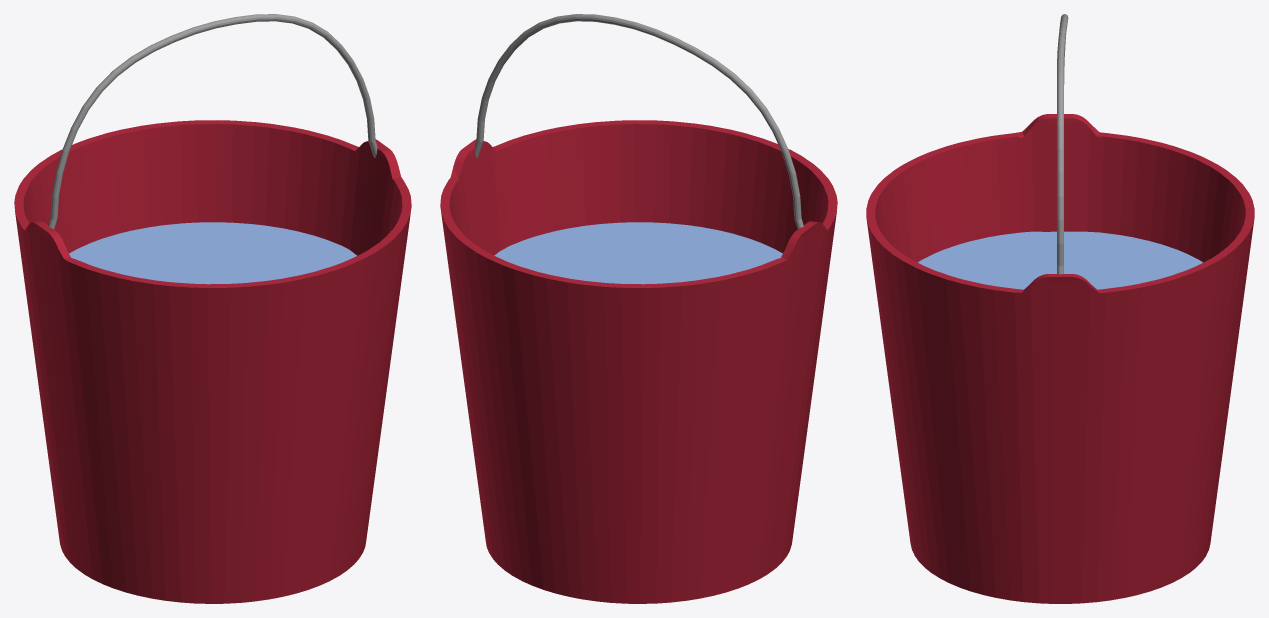
Rendered from kova3.fbx.
3 renders of one model, left to right at view 1: azimuth 30°, elevation 25°; view 2: azimuth 150°, elevation 25°; view 3: azimuth 270°, elevation 25°, orthographic. The views are drawn at different scales.
Parts seen in each view (by area): view 1: Cylinder, Cylinder.001, Torus; view 2: Cylinder, Cylinder.001, Torus; view 3: Cylinder, Cylinder.001, Torus.
Part boxes in pixels (box(x1,y1,x2,y2)): Cylinder: box(14, 120, 411, 603); Cylinder.001: box(69, 222, 356, 284); Torus: box(48, 14, 377, 229); Cylinder: box(440, 120, 837, 603); Cylinder.001: box(494, 222, 782, 284); Torus: box(474, 14, 803, 229); Cylinder: box(866, 114, 1254, 603); Cylinder.001: box(918, 231, 1202, 289); Torus: box(1057, 14, 1068, 274).
Size of the model in its own units: 256 by 370 by 258.
